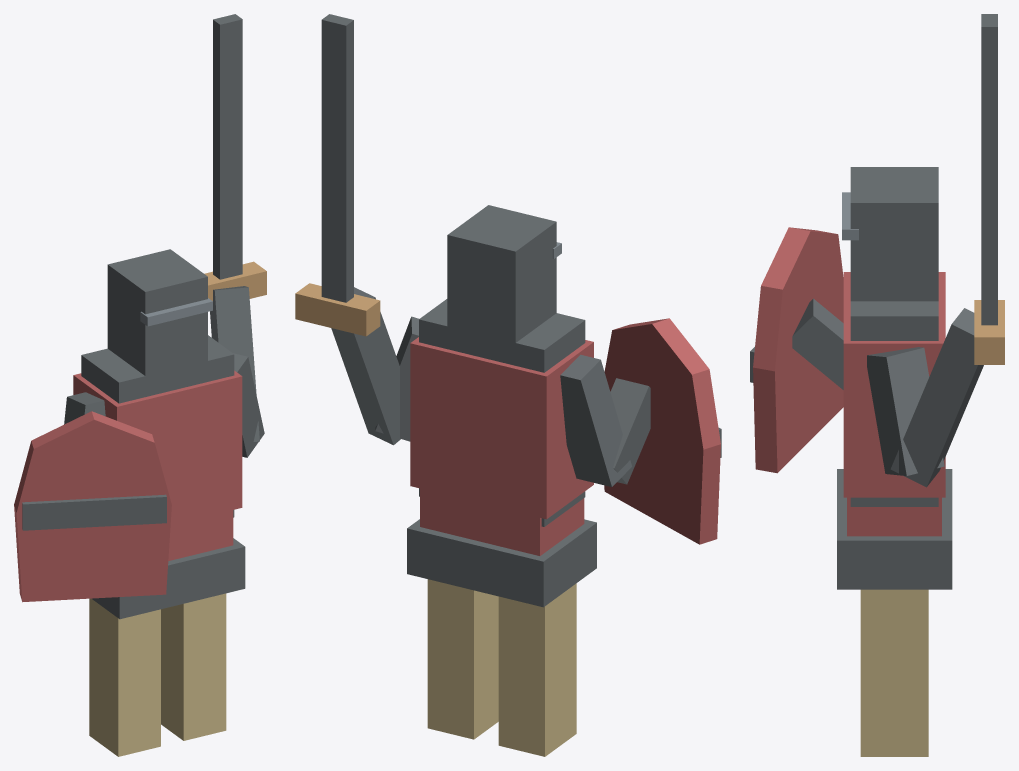
File: man-at-arms-crimson.glb
3 renders of one model, left to right at view 1: azimuth 30°, elevation 25°; view 2: azimuth 150°, elevation 25°; view 3: azimuth 270°, elevation 25°, orthographic. The views are drawn at different scales.
Parts seen in each view (by area): view 1: man-at-arms-red; view 2: man-at-arms-red; view 3: man-at-arms-red.
Boxes of the visible parts, box(x1,y1,x2,y2) form: man-at-arms-red: box(14, 14, 266, 756); man-at-arms-red: box(295, 14, 721, 756); man-at-arms-red: box(750, 14, 1004, 756).
Bounding box in the file's own units: 1.25 × 2.5 × 0.7511.
